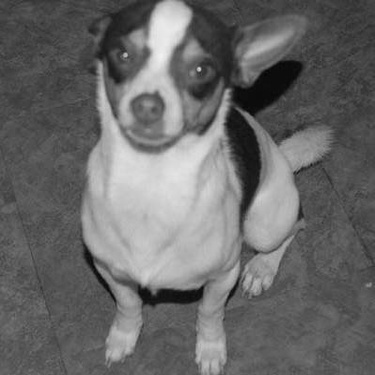dog: (69, 3, 338, 372)
